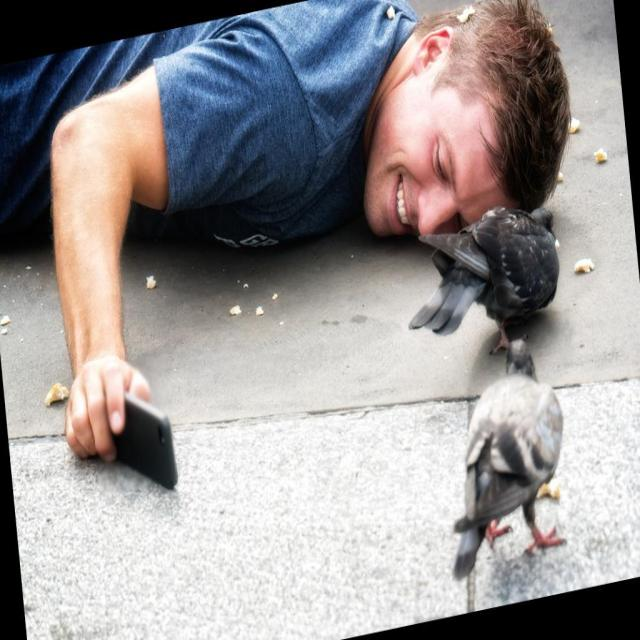phone: (123, 396, 176, 491)
